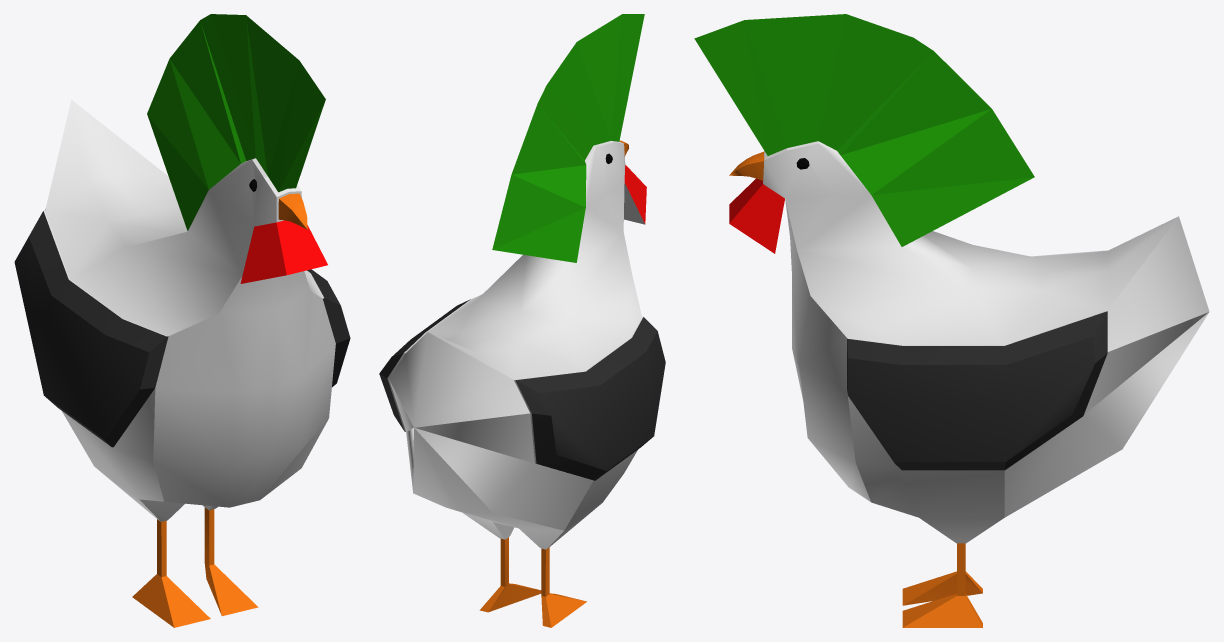
File: Poule_Punk.FBX
3 renders of one model, left to right at view 1: azimuth 30°, elevation 25°; view 2: azimuth 150°, elevation 25°; view 3: azimuth 270°, elevation 25°, orthographic. The views are drawn at different scales.
Visible parts, largest first — view 1: Box001; view 2: Box001; view 3: Box001.
Boxes of the visible parts, x1,y1,x2,y2 form: Box001: (14,14,350,627); Box001: (379,14,665,627); Box001: (694,14,1209,627).
Bounding box in the file's own units: 11.06 × 27.37 × 21.51.
